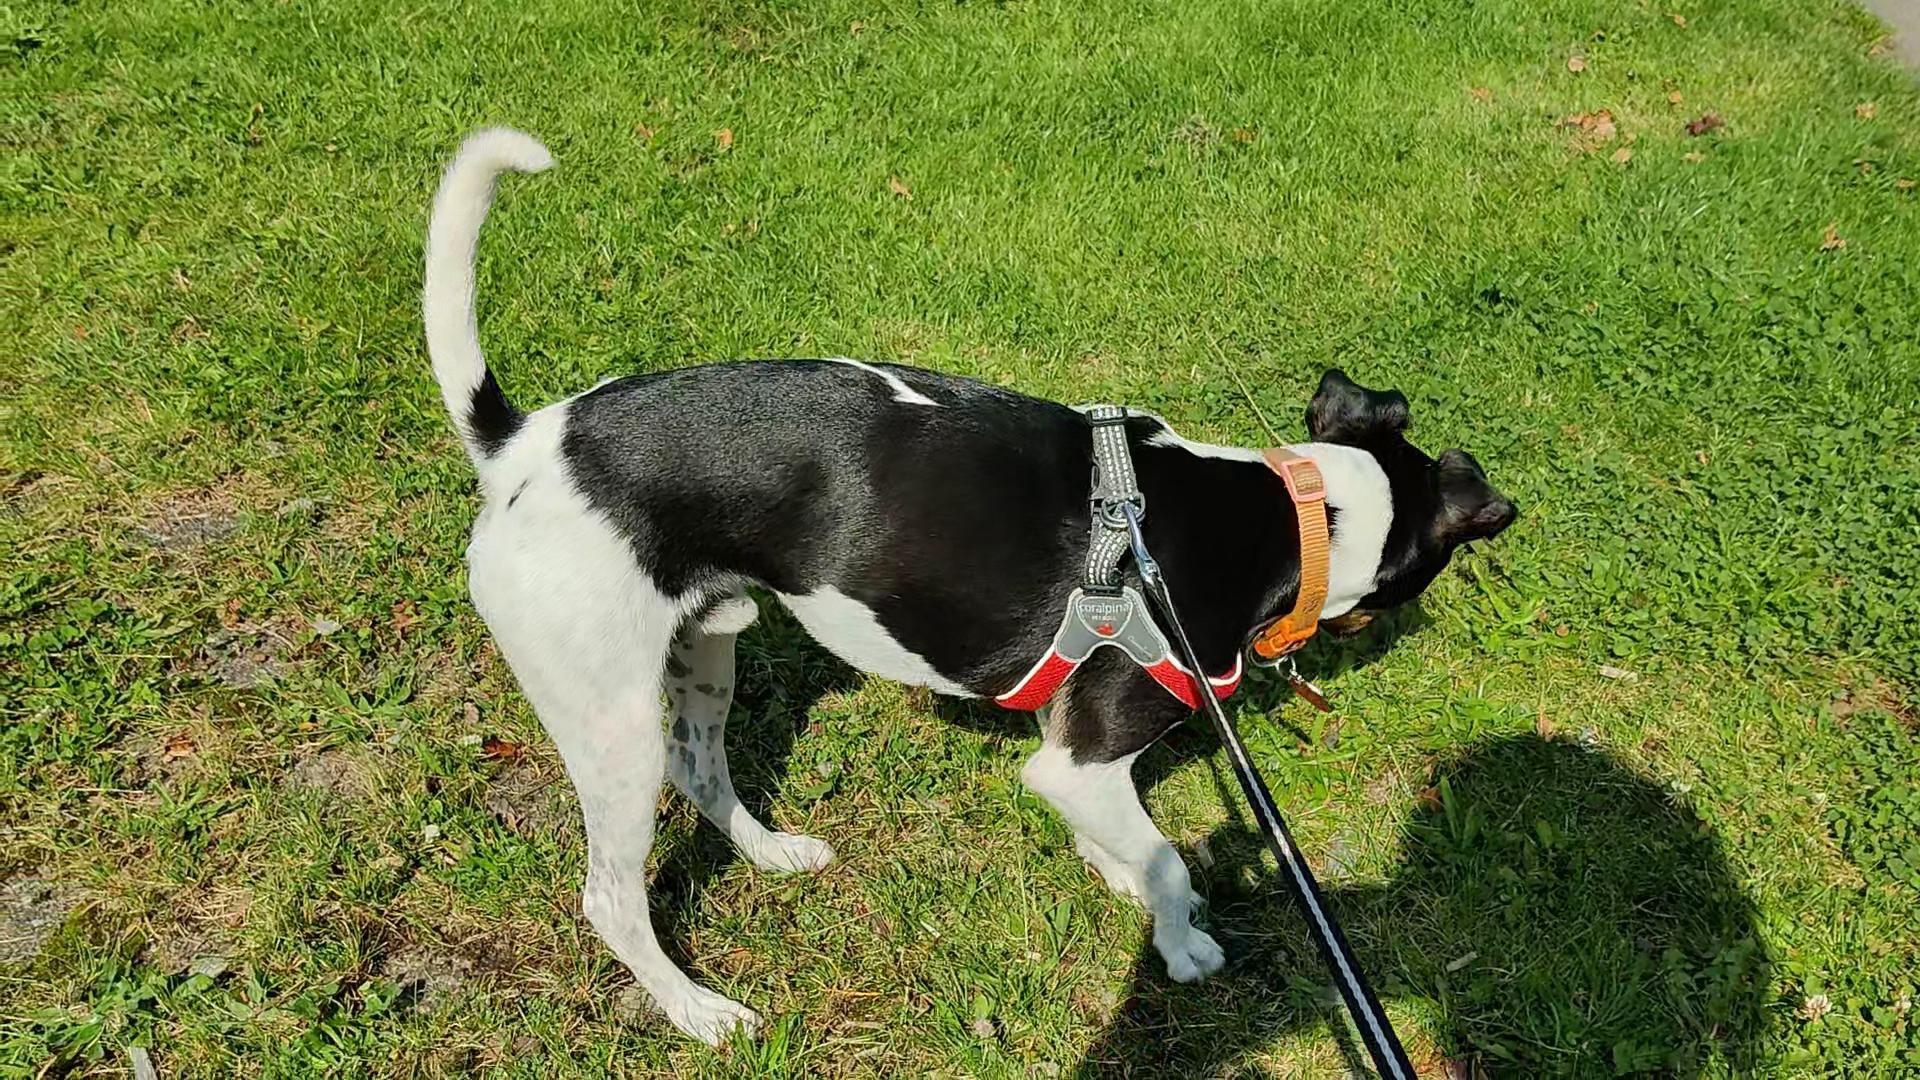Dog: (410, 128, 1527, 1051)
